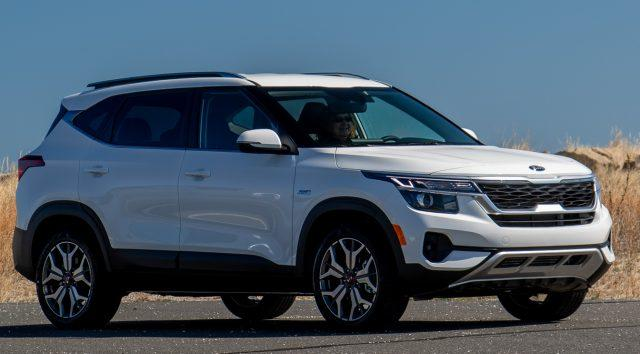car: (8, 70, 616, 328)
